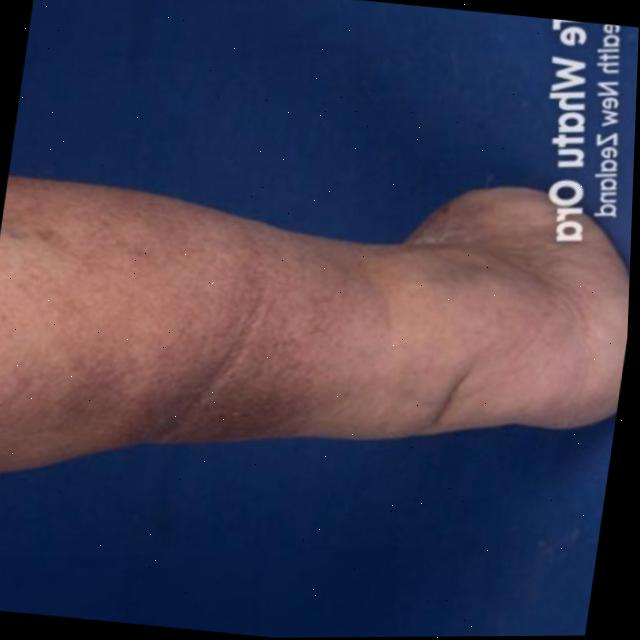Eczema: (28, 215, 379, 459)
